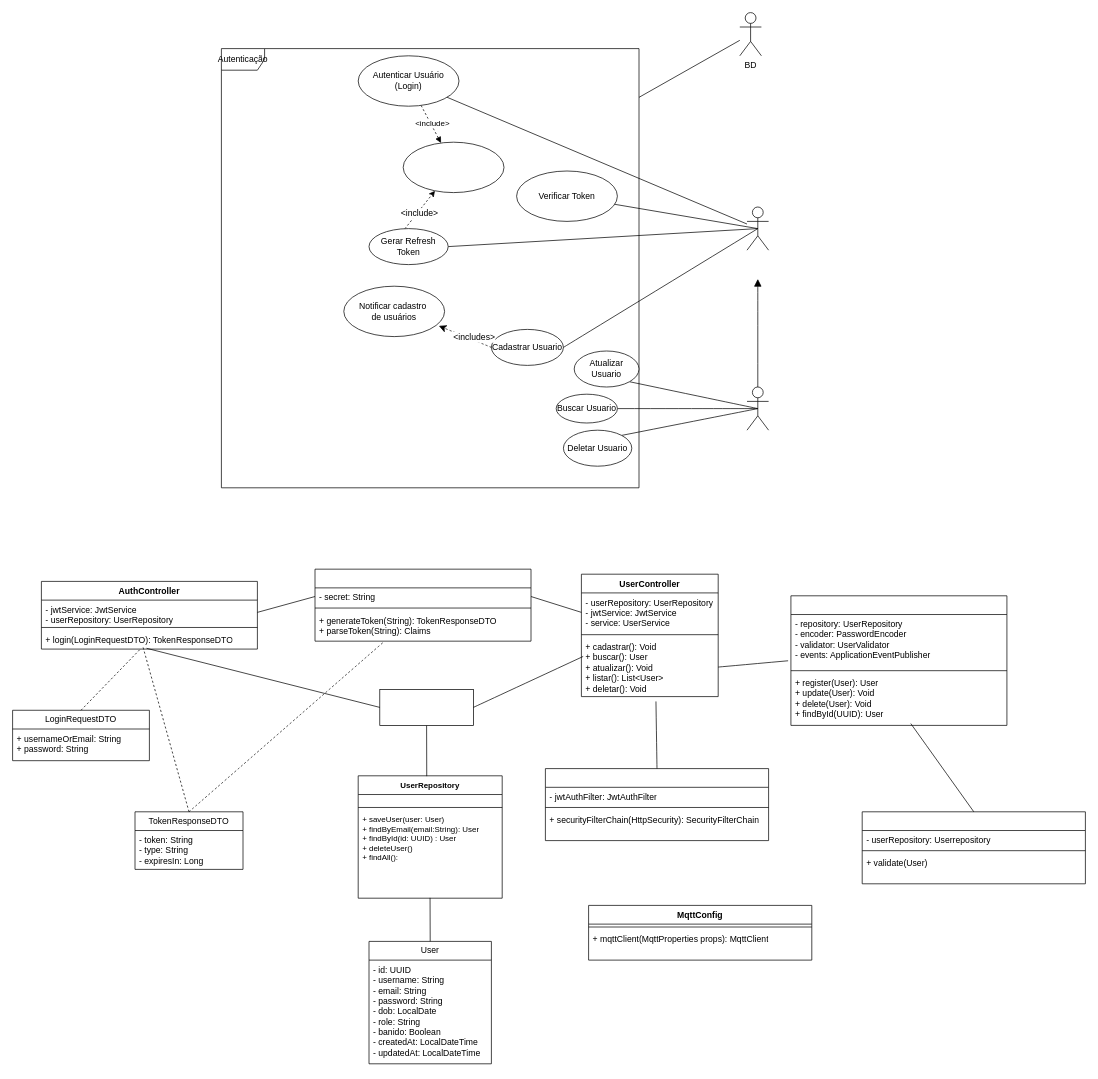
This 1098x1079 diagram has some shape labels left out. Here are the shapes that lost their labels. From the top down, the box of each, then its label:
(402, 141, 504, 193): Gerar Token JWT
(746, 206, 769, 250): Sistema Cliente
(746, 386, 769, 430): Admin
(314, 568, 531, 641): JwtService
(790, 595, 1007, 725): UserService
(379, 689, 473, 725): «interface» UserRepository
(545, 768, 769, 841): SecurityConfig
(861, 811, 1085, 884): UserValidator
